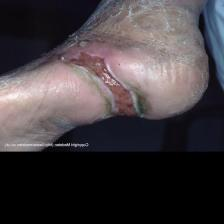Wound: (58, 51, 151, 119)
